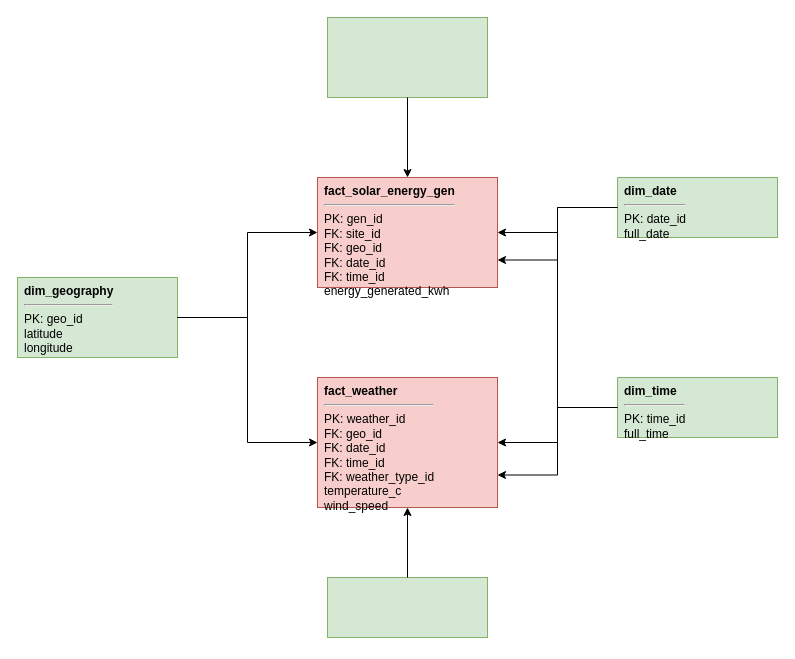
This 795x659 diagram has some shape labels left out. Here are the shapes that lost their labels. From the top down, the box of each, then its label:
(326, 16, 488, 98): dim_solar_site PK: site_id site_name capacity_kw
(326, 576, 488, 638): dim_weather_type PK: weather_type_id condition
